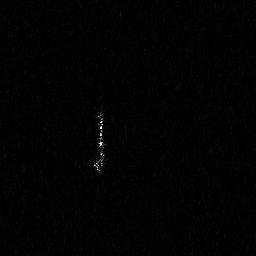ship: (93, 110, 106, 178)
